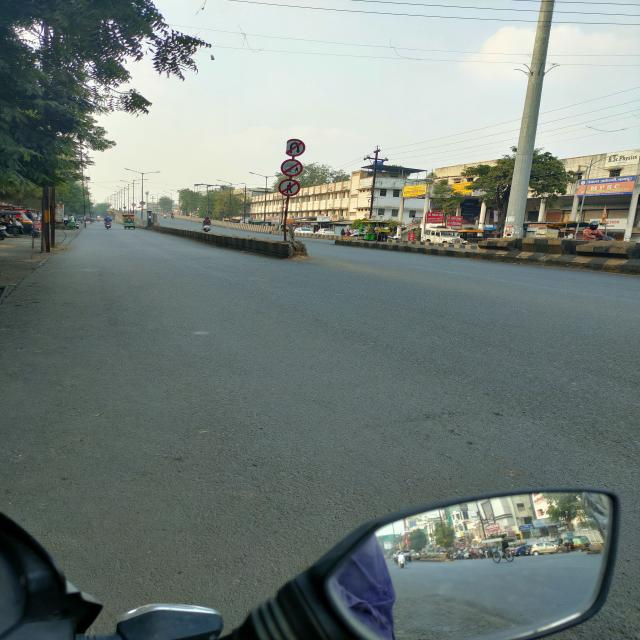railway_crossing: (280, 159, 302, 176)
